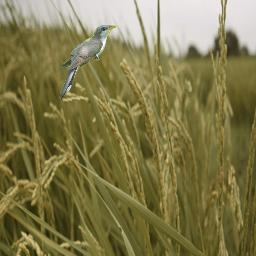Cuckoo: (59, 25, 116, 99)
